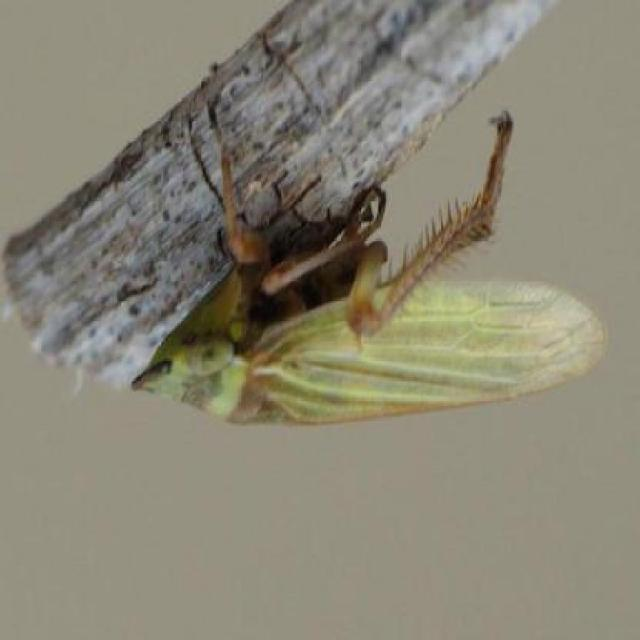green-leafhopper: (138, 105, 604, 429)
